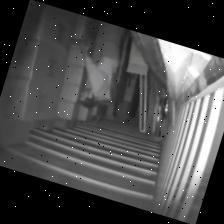person: (80, 22, 124, 107)
